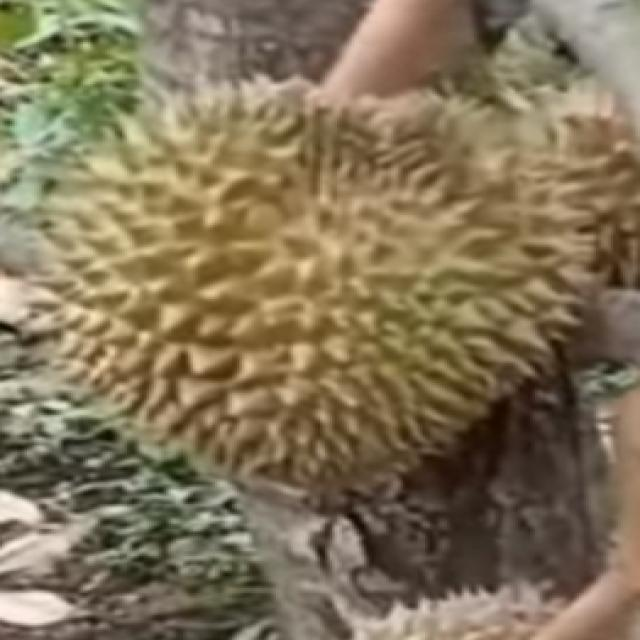mature: (28, 70, 596, 498)
